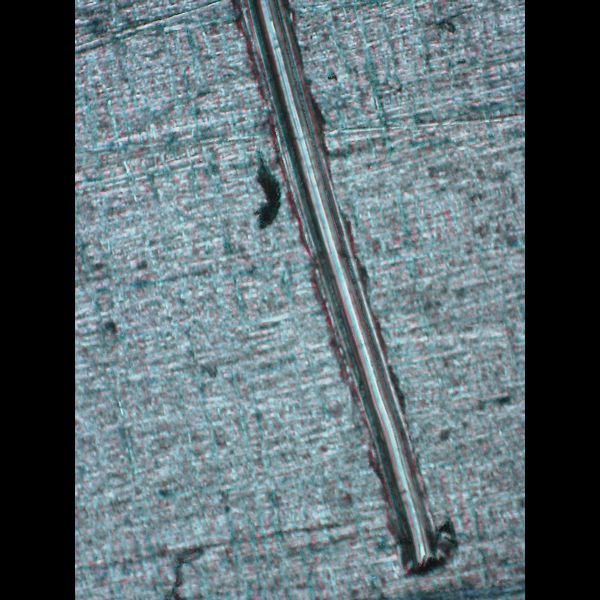d: (220, 0, 464, 577)
